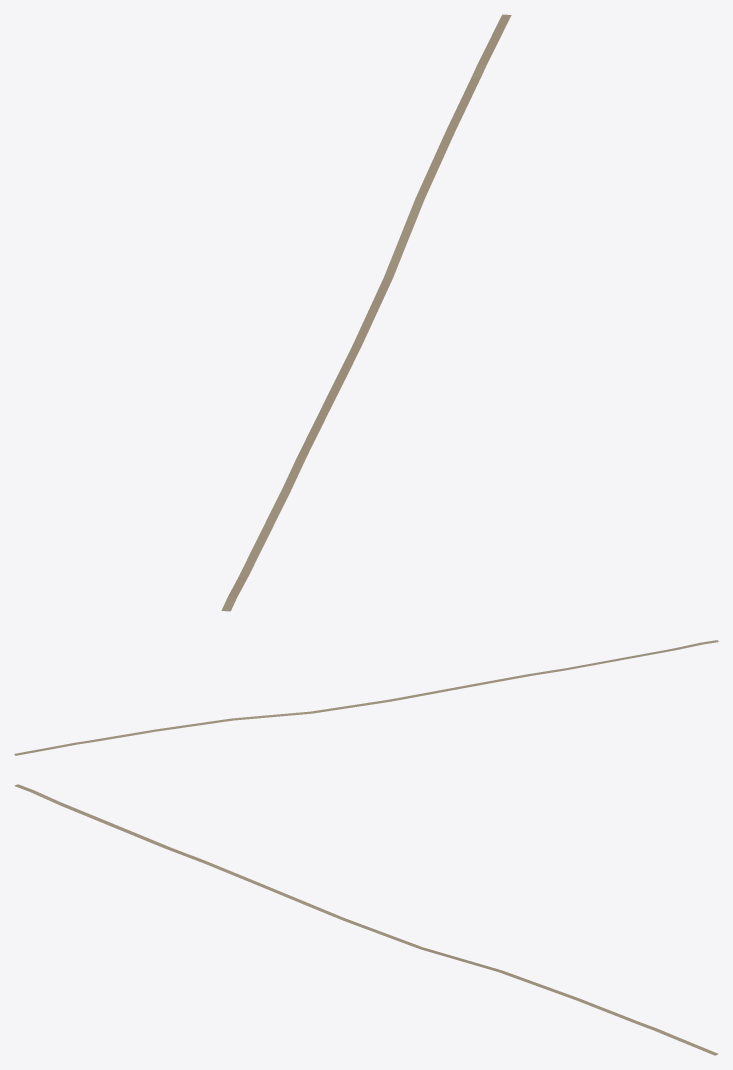
Rendered from farm_-26_-25_track.glb.
The picture shows the model from 3 angles, top to bottom: view 1: azimuth 30°, elevation 25°; view 2: azimuth 150°, elevation 25°; view 3: azimuth 270°, elevation 25°; orthographic projection. The views are drawn at different scales.
Parts seen in each view (by area): view 1: geometry_0; view 2: geometry_0; view 3: geometry_0.
Part boxes in pixels (x1=…): geometry_0: x1=221, y1=14, x2=511, y2=611; geometry_0: x1=14, y1=640, x2=718, y2=755; geometry_0: x1=14, y1=784, x2=718, y2=1055.
Size of the model in its own units: 337 by 9.15 by 388.
